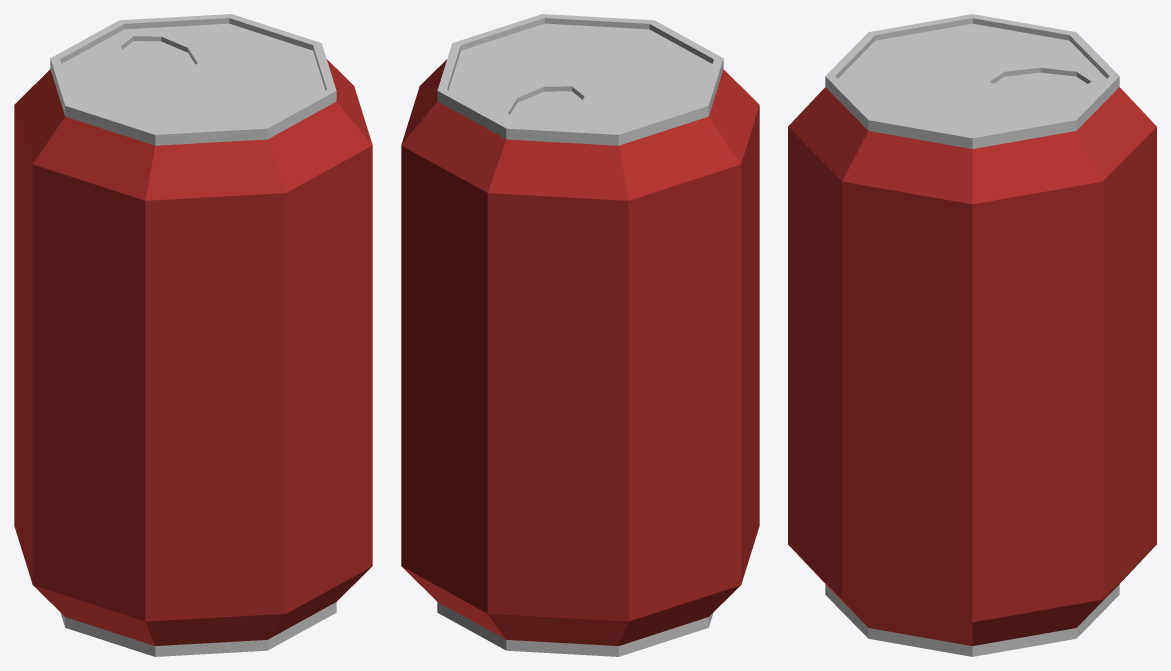
File: can.glb
The picture shows the model from 3 angles, left to right: view 1: azimuth 30°, elevation 25°; view 2: azimuth 150°, elevation 25°; view 3: azimuth 270°, elevation 25°; orthographic projection.
Visible parts, largest first — view 1: can; view 2: can; view 3: can.
Part boxes in pixels (x1,y1,x2,y2): can: [14, 14, 372, 656]; can: [401, 14, 759, 656]; can: [788, 14, 1156, 656].
Bounding box in the file's own units: 0.2401 × 0.3727 × 0.2401.
